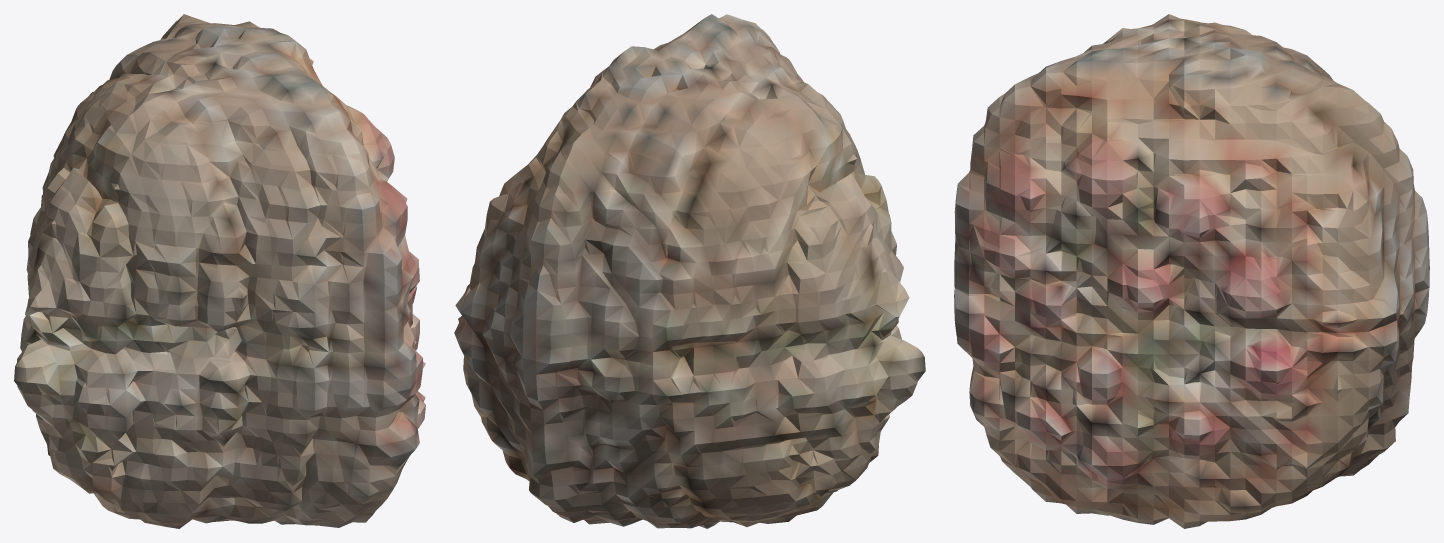
3 views of the same model, side by side, from view 1: azimuth 30°, elevation 25°; view 2: azimuth 150°, elevation 25°; view 3: azimuth 270°, elevation 25° (orthographic).
Parts seen in each view (by area): view 1: world; view 2: world; view 3: world.
Boxes of the visible parts, x1,y1,x2,y2 form: world: (14, 14, 425, 528); world: (454, 14, 925, 528); world: (954, 14, 1429, 528).
Bounding box in the file's own units: 0.8047 × 0.8807 × 0.8545.
